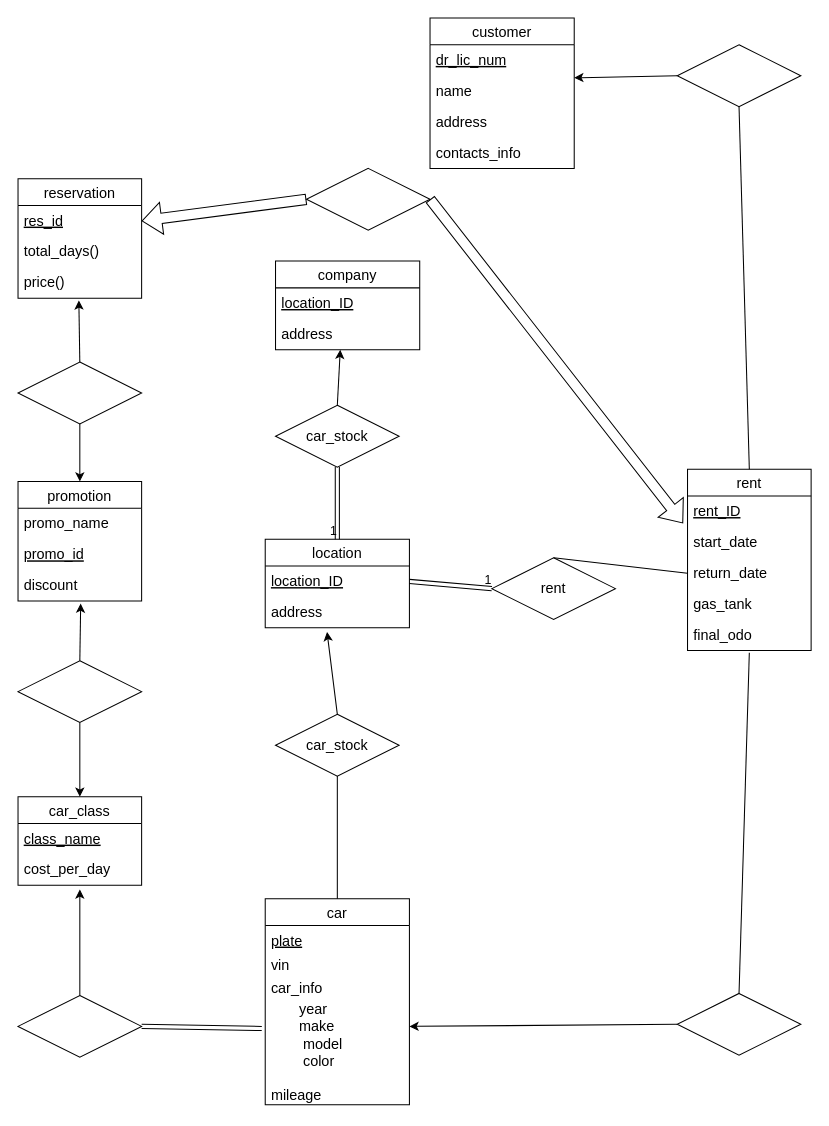
Some shapes in this 829 by 1126 pixel diagram are drawn without their labels. Each missing label, with the centre of its shape:
"belongs to" belongs at (x=79, y=1025).
"car_list" belongs at (x=738, y=1023).
"pays" belongs at (x=738, y=75).
"promo_class" belongs at (x=79, y=691).
"promo_res" belongs at (x=79, y=392).
"res_rent" belongs at (x=367, y=198).
